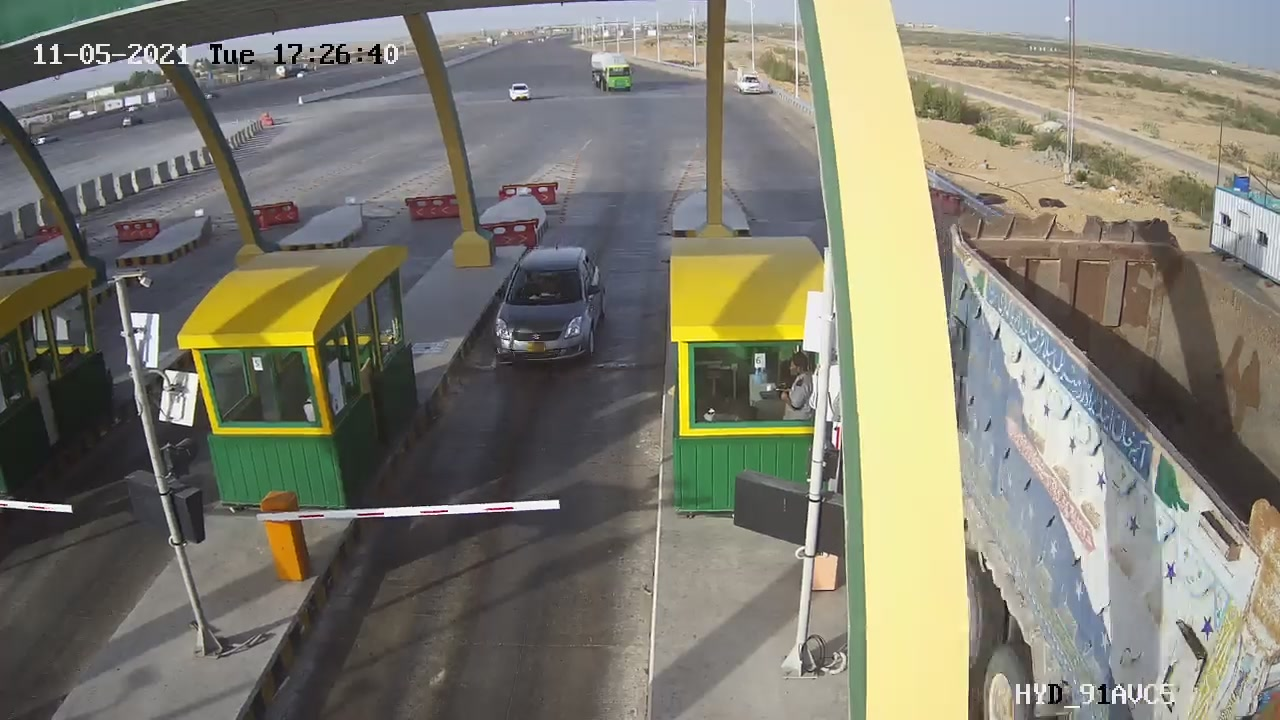F1: (477, 231, 625, 385)
